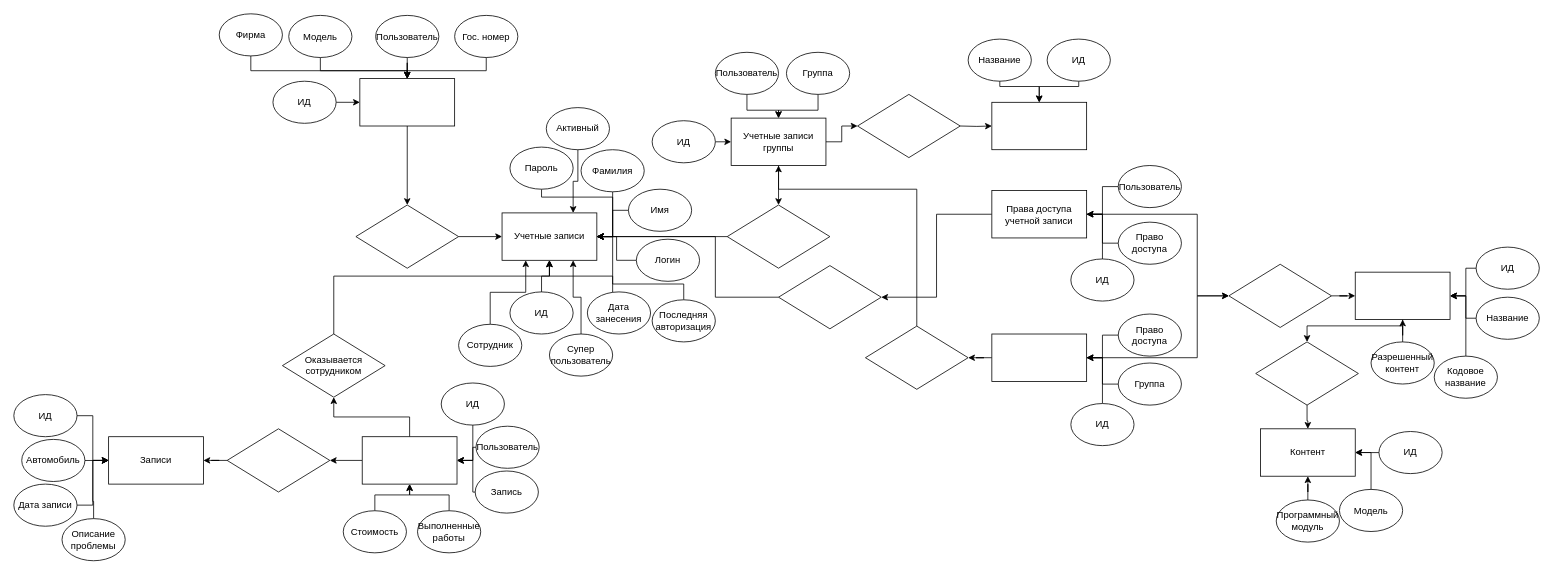
Image size: 1553x575. Some labels were removed from this diagram. Here are the shapes that lost their labels. From the top down, the box of each, then its label:
(359, 78, 455, 126): Автомобили
(857, 94, 960, 158): Содержит группы
(991, 102, 1087, 150): Группы учетных записей
(355, 204, 459, 268): Имеет владельца
(726, 204, 830, 268): Содержит пользователей
(778, 265, 881, 329): Дает права пользователю
(1228, 263, 1332, 327): Содержат выдаваемые права доступа
(1354, 271, 1450, 320): Права доступа учетных записей
(865, 325, 968, 389): Дает права группе
(991, 333, 1087, 381): Права доступа групп учетных записей
(1255, 341, 1358, 405): Разрешает определенный контент
(226, 428, 330, 492): Выполняет запись
(361, 436, 457, 484): Заказы
